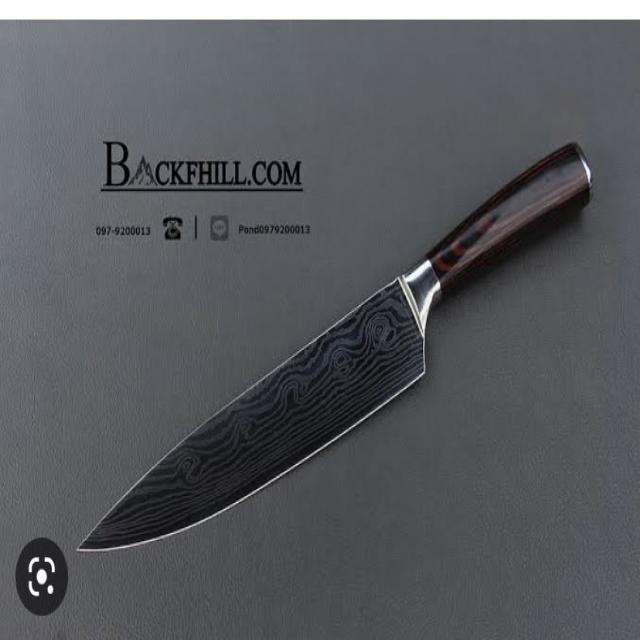Knife: (61, 117, 611, 618)
